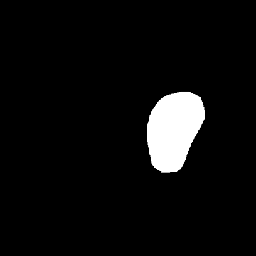mass: (146, 73, 221, 162)
